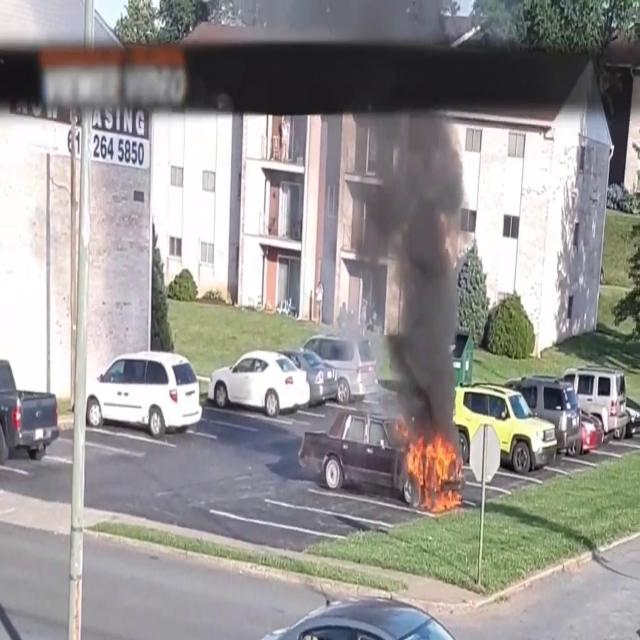Fire: (402, 428, 464, 511)
Smoke: (336, 114, 478, 433)
